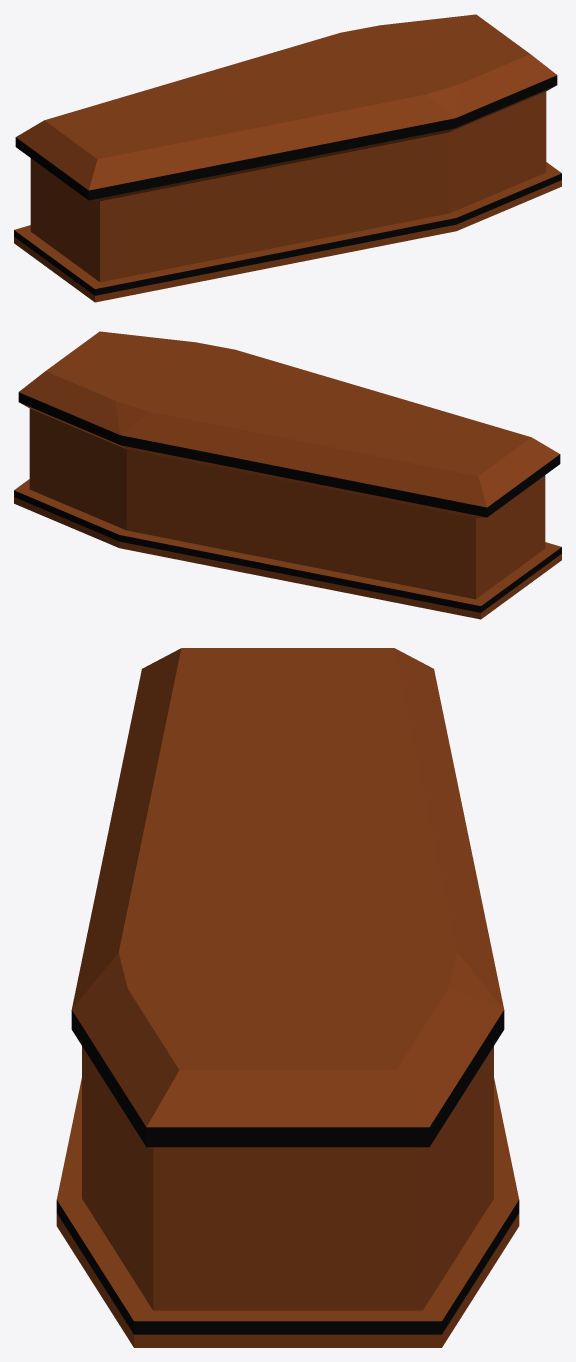
File: coffin separated.fbx
3 renders of one model, top to bottom at view 1: azimuth 30°, elevation 25°; view 2: azimuth 150°, elevation 25°; view 3: azimuth 270°, elevation 25°, orthographic. The views are drawn at different scales.
Visible parts, largest first — view 1: cracked coffin.009, cracked coffin.002, cracked coffin.006, cracked coffin.008, cracked coffin.010, cracked coffin.011, cracked coffin.017, cracked coffin.014, cracked coffin.007, cracked coffin.012, cracked coffin.001, cracked coffin.020 (+3 smaller); view 2: cracked coffin.015, cracked coffin.016, cracked coffin.017, cracked coffin.014, cracked coffin.012, cracked coffin.013, cracked coffin.006, cracked coffin.008, cracked coffin.005, cracked coffin.010, cracked coffin, cracked coffin.021 (+3 smaller); view 3: cracked coffin.010, cracked coffin.012, cracked coffin.008, cracked coffin.014, cracked coffin.006, cracked coffin.017, cracked coffin.018, cracked coffin.019, cracked coffin.011, cracked coffin.013, cracked coffin.003, cracked coffin.004 (+2 smaller).
Boxes of the visible parts, box(x1,y1,x2,y2) form: cracked coffin.009: box(274, 132, 449, 247); cracked coffin.002: box(100, 167, 274, 282); cracked coffin.006: box(52, 102, 274, 201); cracked coffin.008: box(227, 63, 455, 166); cracked coffin.010: box(383, 34, 557, 131); cracked coffin.011: box(449, 91, 546, 213); cracked coffin.017: box(15, 76, 226, 173); cracked coffin.014: box(192, 32, 382, 101); cracked coffin.007: box(54, 248, 275, 302); cracked coffin.012: box(341, 14, 502, 63); cracked coffin.001: box(274, 213, 456, 266); cracked coffin.020: box(30, 158, 65, 256); cracked coffin.015: box(126, 449, 301, 564); cracked coffin.016: box(301, 484, 475, 599); cracked coffin.017: box(301, 419, 523, 518); cracked coffin.014: box(120, 380, 348, 483); cracked coffin.012: box(18, 351, 192, 448); cracked coffin.013: box(29, 408, 126, 530); cracked coffin.006: box(349, 393, 560, 490); cracked coffin.008: box(193, 349, 383, 418); cracked coffin.005: box(300, 565, 521, 619); cracked coffin.010: box(73, 331, 234, 380); cracked coffin: box(119, 530, 301, 583); cracked coffin.021: box(510, 475, 545, 573); cracked coffin.010: box(71, 952, 287, 1148); cracked coffin.012: box(288, 952, 504, 1148); cracked coffin.008: box(72, 800, 287, 1008); cracked coffin.014: box(288, 800, 503, 1008); cracked coffin.006: box(107, 648, 287, 838); cracked coffin.017: box(288, 648, 468, 838); cracked coffin.018: box(153, 1148, 287, 1310); cracked coffin.019: box(288, 1148, 422, 1310); cracked coffin.011: box(82, 1046, 153, 1310); cracked coffin.013: box(422, 1046, 493, 1310); cracked coffin.003: box(56, 1198, 287, 1347); cracked coffin.004: box(288, 1198, 519, 1347).
Bounding box in the file's own units: 275 × 72.03 × 117.
